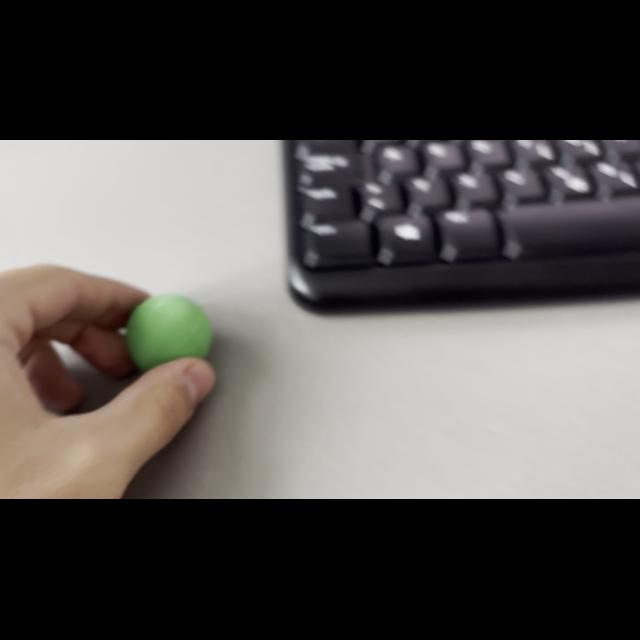objects: (121, 288, 217, 372)
